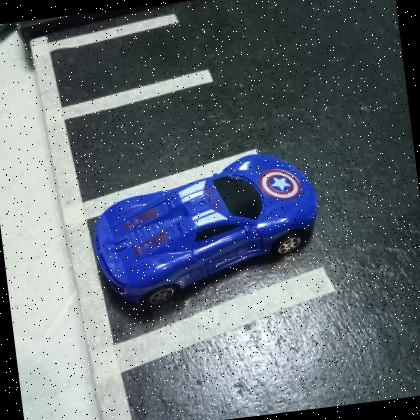Car: (83, 144, 332, 312)
